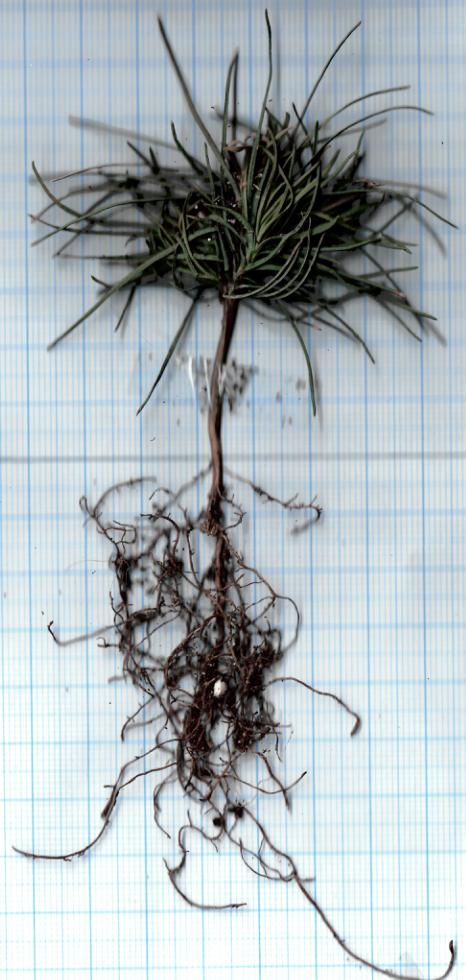flower: (11, 0, 466, 311)
root: (9, 455, 465, 980)
stem: (204, 305, 249, 462)
